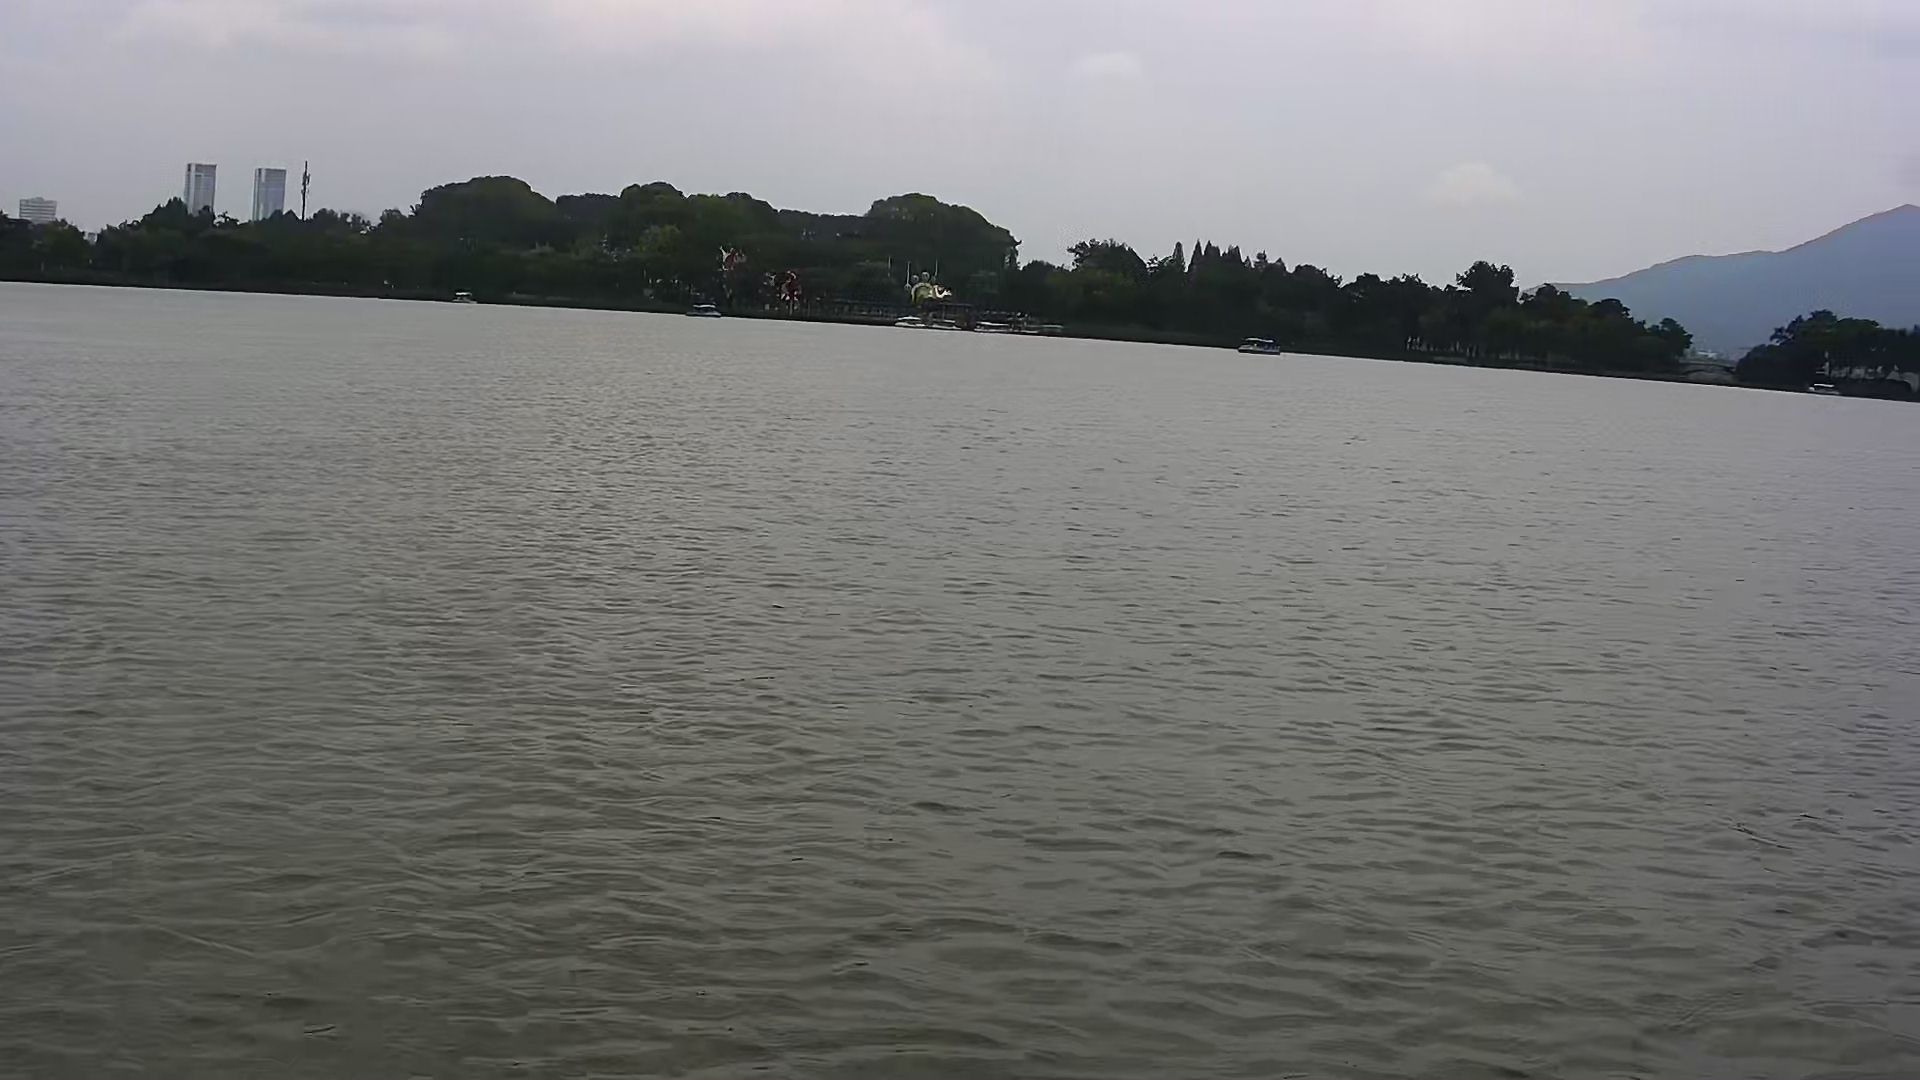boat: (1238, 330, 1287, 359), (680, 301, 720, 316)
